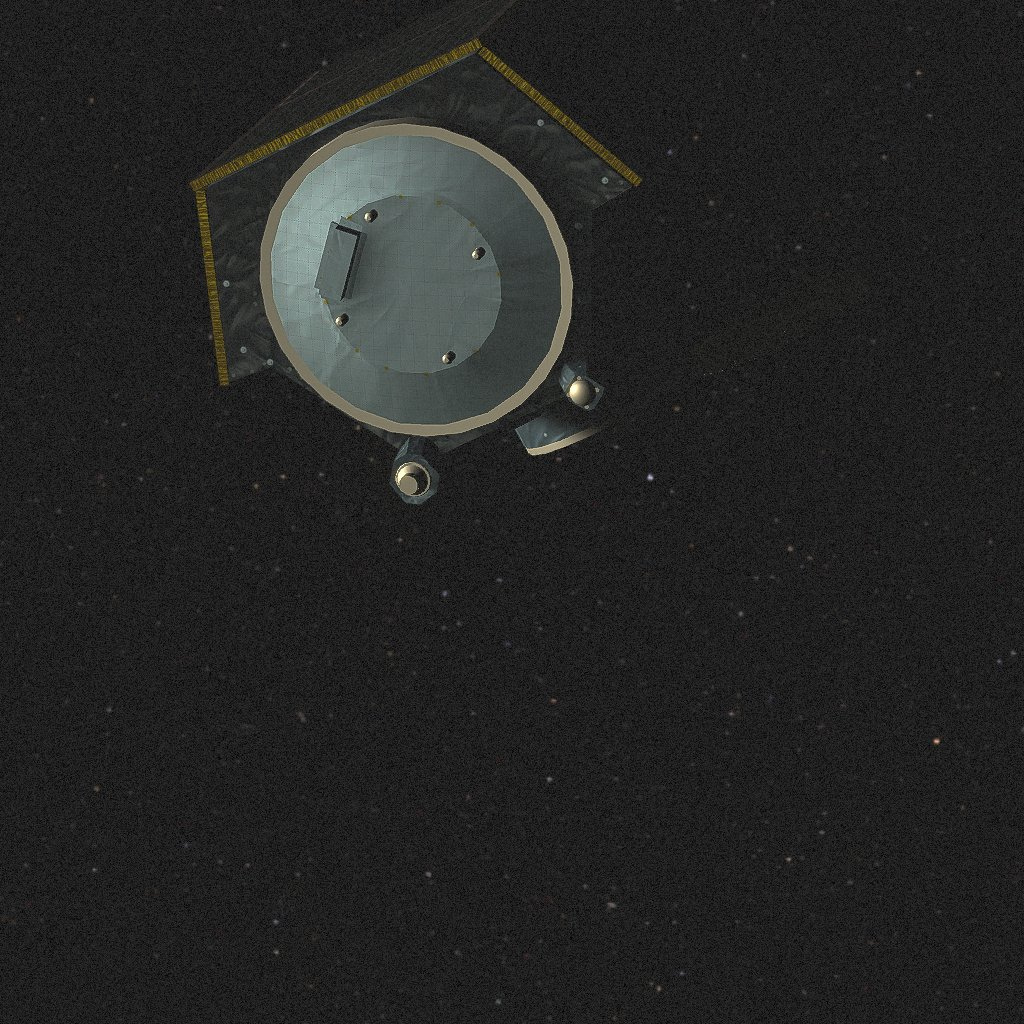cheops: (189, 28, 930, 492)
